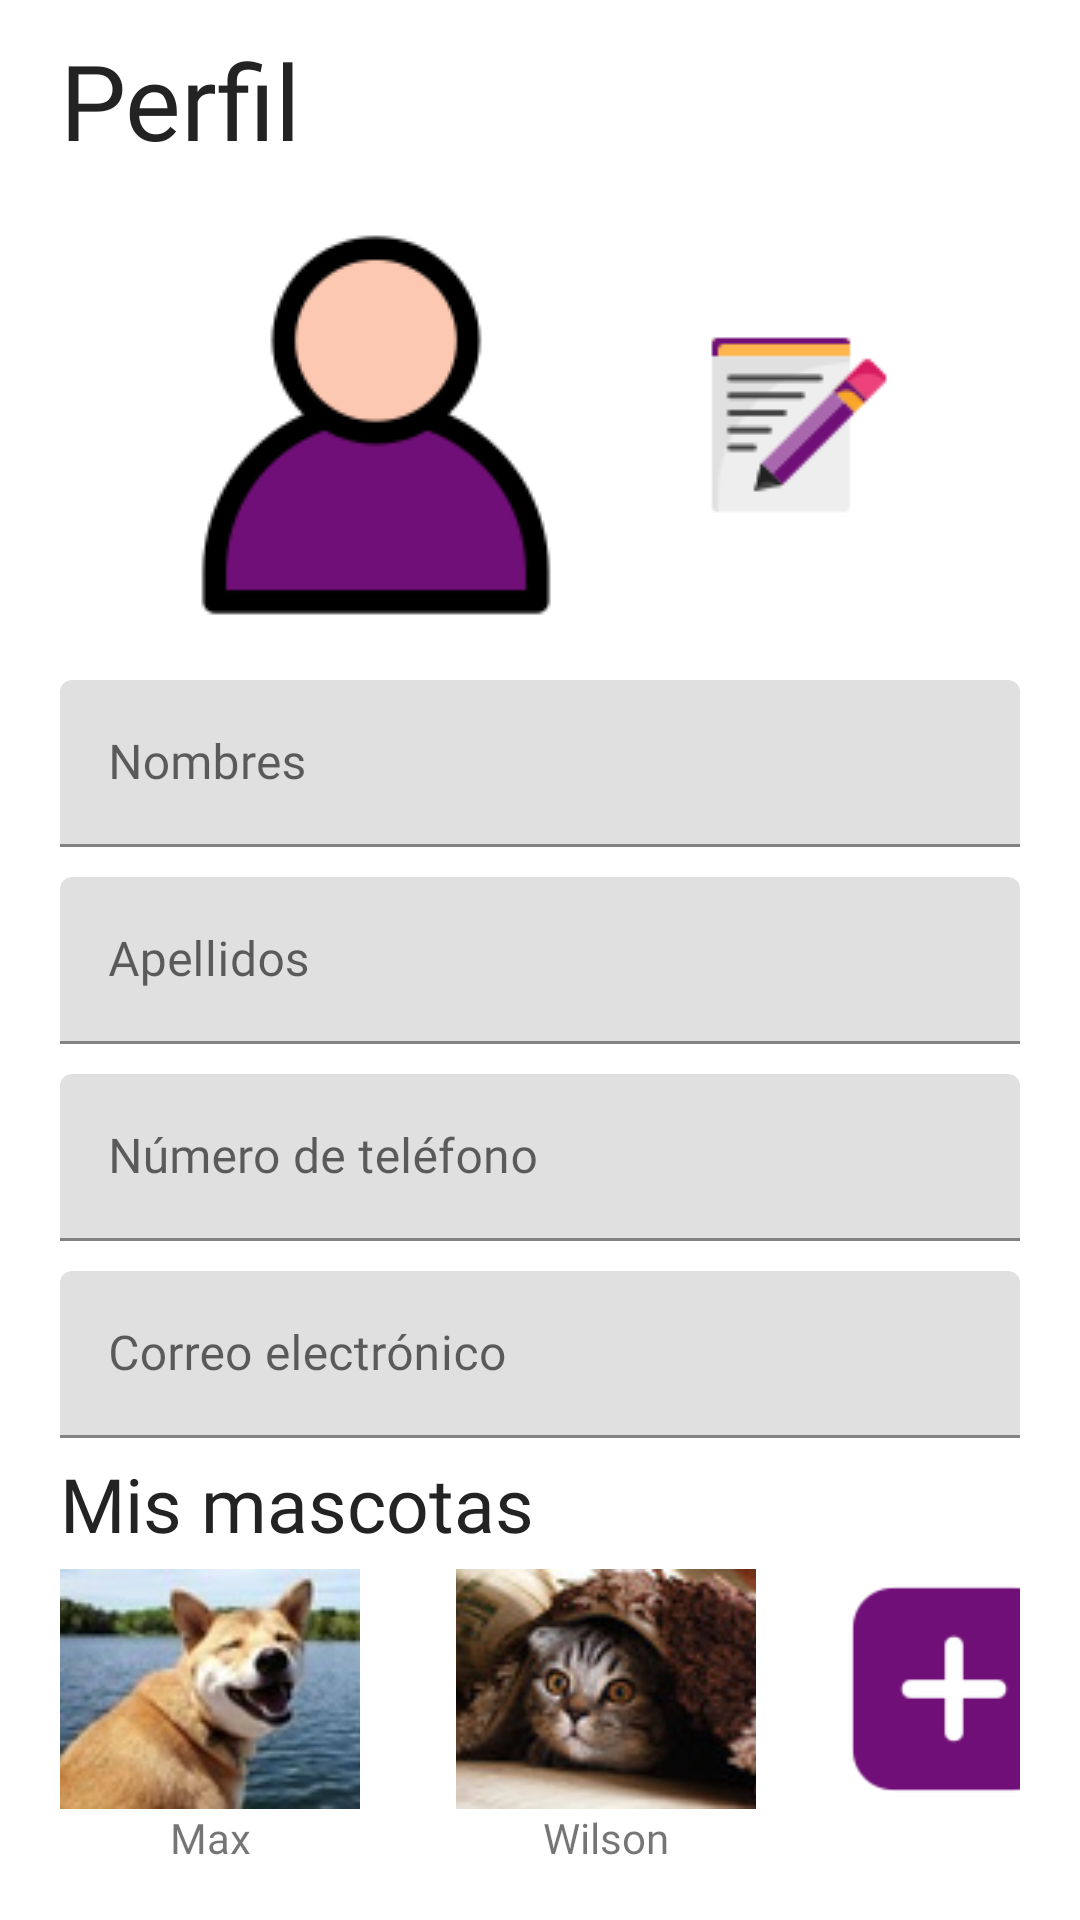

Point at icon controls on the screen. Image size 1080 × 1920, points as (x,y).
Icono editar: (799,424)
Icono mascota 1: (210,1689)
Icono mascota 2: (606,1689)
